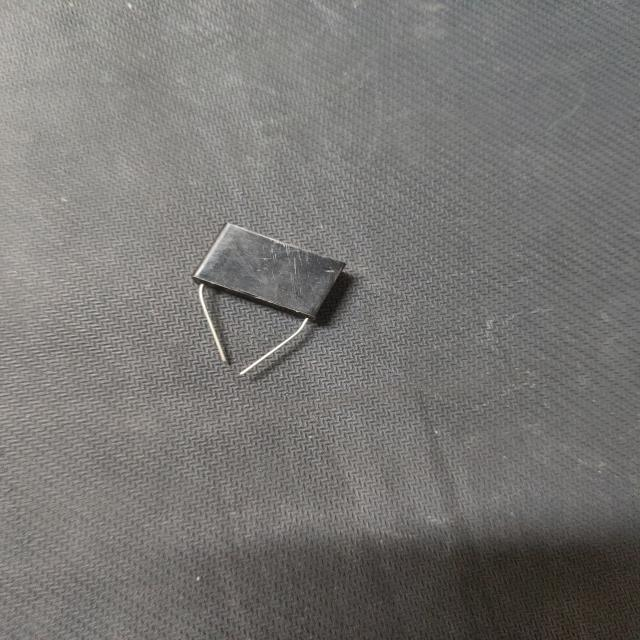capacitor: (181, 212, 359, 384)
